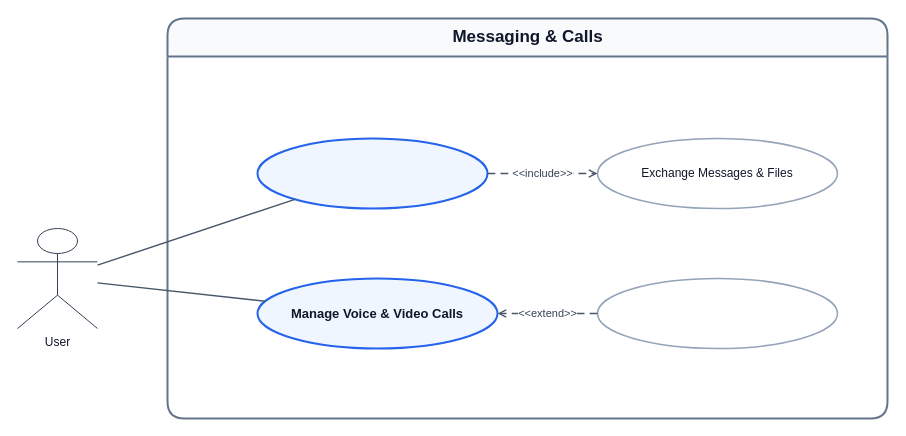
Image size: 906x436. Some labels were removed from this diagram. The shapes that lost their labels are listed below. From the top down, each one's box as (x1, y1, x2, y2) in pixels, then its label:
(256, 137, 488, 209): Communicate via Messaging
(596, 277, 838, 349): Control Active Call
